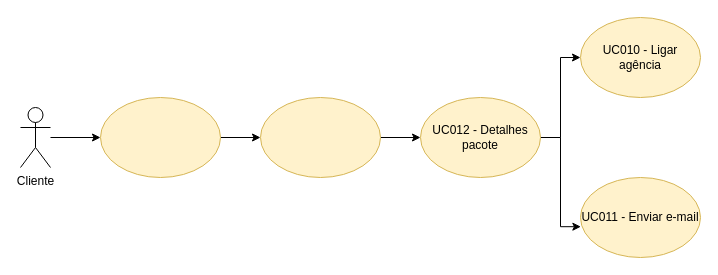
This 718x275 diagram has some shape labels left out. Each missing label, with the centre of its shape:
UC008 - Listar pacote: (x=160, y=137)
UC009 - Selecionar pacote: (x=320, y=137)
